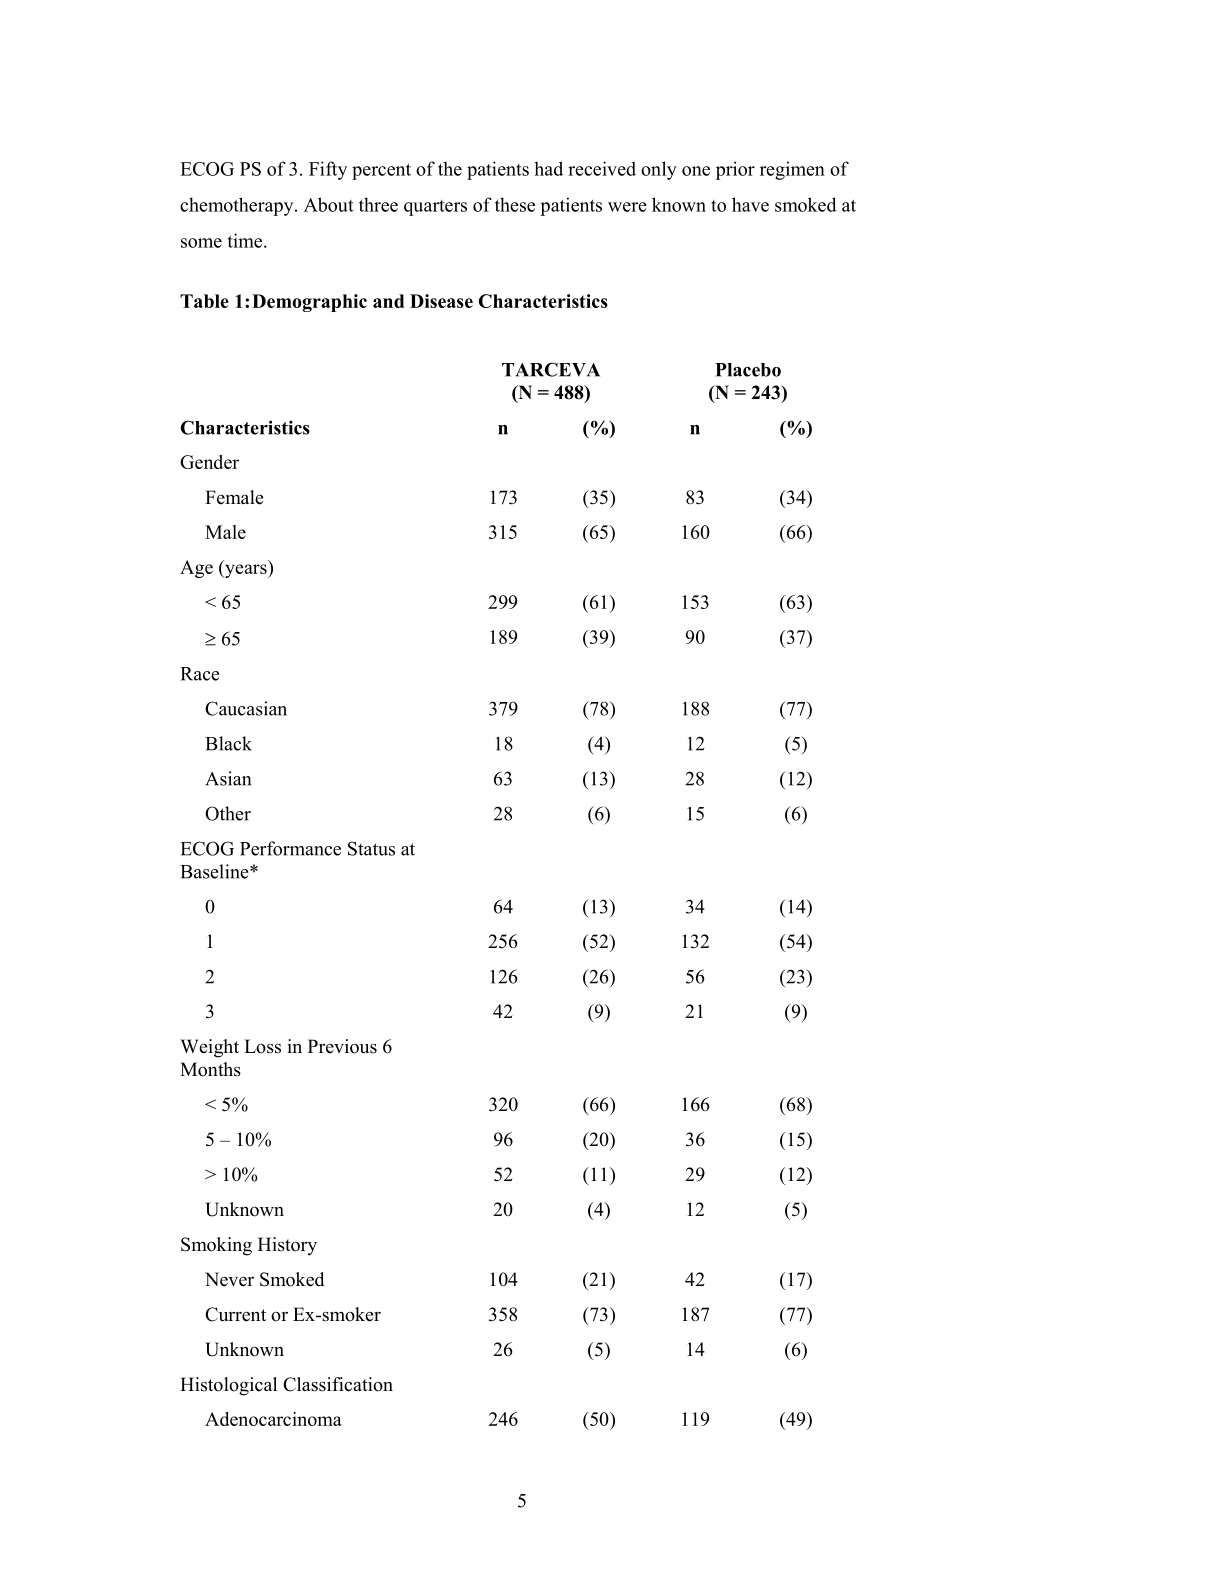nolines: (172, 357, 820, 1434)
